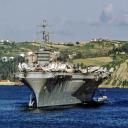Portanaves: (15, 14, 117, 111)
